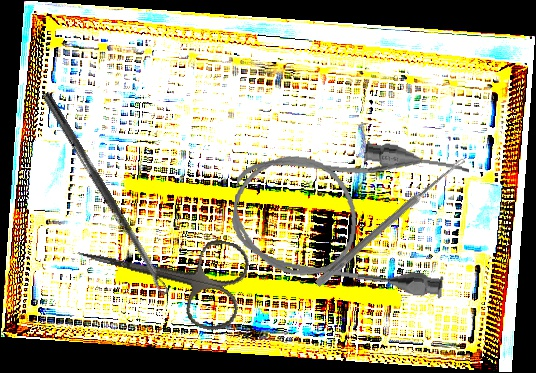Cannula: (225, 125, 472, 301)
Iris Scissors: (67, 207, 253, 336)
Surgical Spoon: (40, 91, 170, 297), (314, 154, 467, 289)
